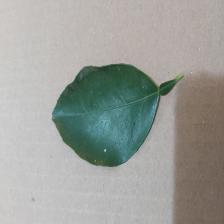healthy: (47, 60, 196, 175)
